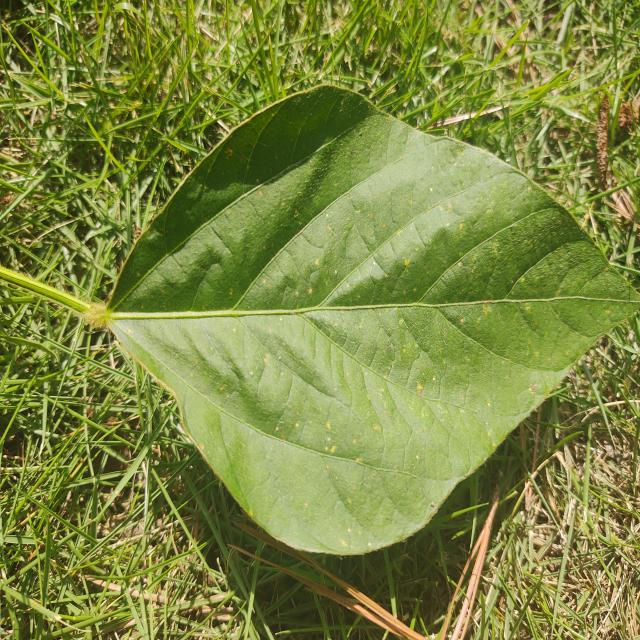Soybean: (101, 86, 640, 640)
downey_mildew: (436, 269, 640, 376), (198, 84, 352, 210), (432, 331, 561, 466), (306, 305, 418, 412), (106, 325, 221, 424), (118, 212, 239, 304), (238, 309, 348, 403), (432, 143, 527, 248), (174, 375, 246, 493), (219, 170, 307, 265), (333, 243, 429, 327), (415, 402, 495, 488), (509, 234, 601, 301), (552, 255, 639, 325), (321, 453, 391, 526), (506, 296, 546, 336)
